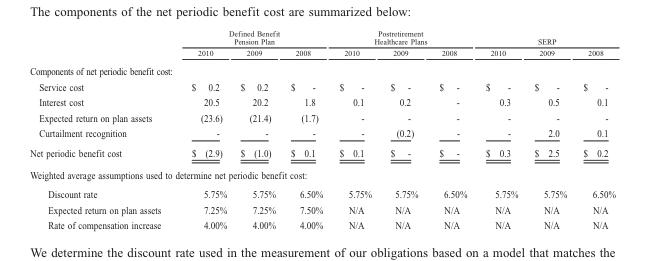table: (29, 28, 615, 230)
table column: (29, 28, 175, 230), (175, 28, 232, 230), (232, 28, 282, 230), (330, 28, 380, 230), (475, 28, 525, 230), (525, 28, 574, 230), (282, 28, 330, 230), (380, 28, 428, 230), (428, 28, 475, 230), (574, 28, 615, 230)
table column header: (29, 28, 615, 60)
table projected row header: (29, 163, 615, 184), (29, 60, 615, 78)
table row: (29, 142, 615, 163), (29, 163, 615, 184), (29, 28, 615, 46), (29, 60, 615, 78), (29, 125, 615, 142), (29, 184, 615, 201), (29, 78, 615, 94), (29, 109, 615, 125), (29, 94, 615, 109), (29, 201, 615, 216), (29, 46, 615, 60), (29, 216, 615, 230)
table spanning cell: (175, 28, 330, 46), (330, 28, 475, 46), (475, 28, 615, 46)
